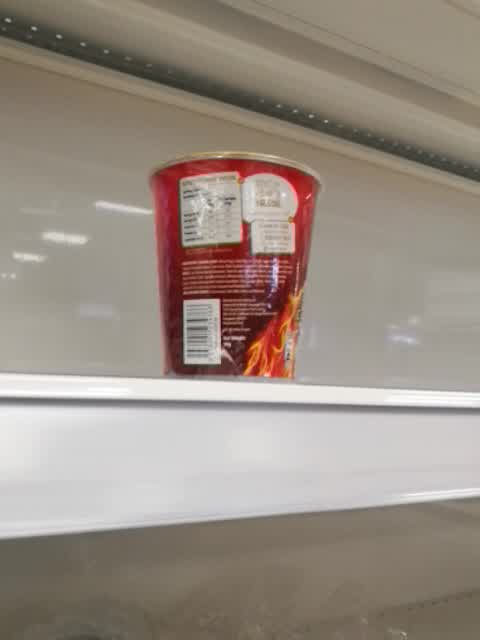maggi: (148, 150, 323, 384)
